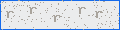r: (52, 14, 60, 23), (28, 7, 37, 14), (5, 11, 14, 18), (95, 11, 103, 18), (78, 7, 86, 14)
